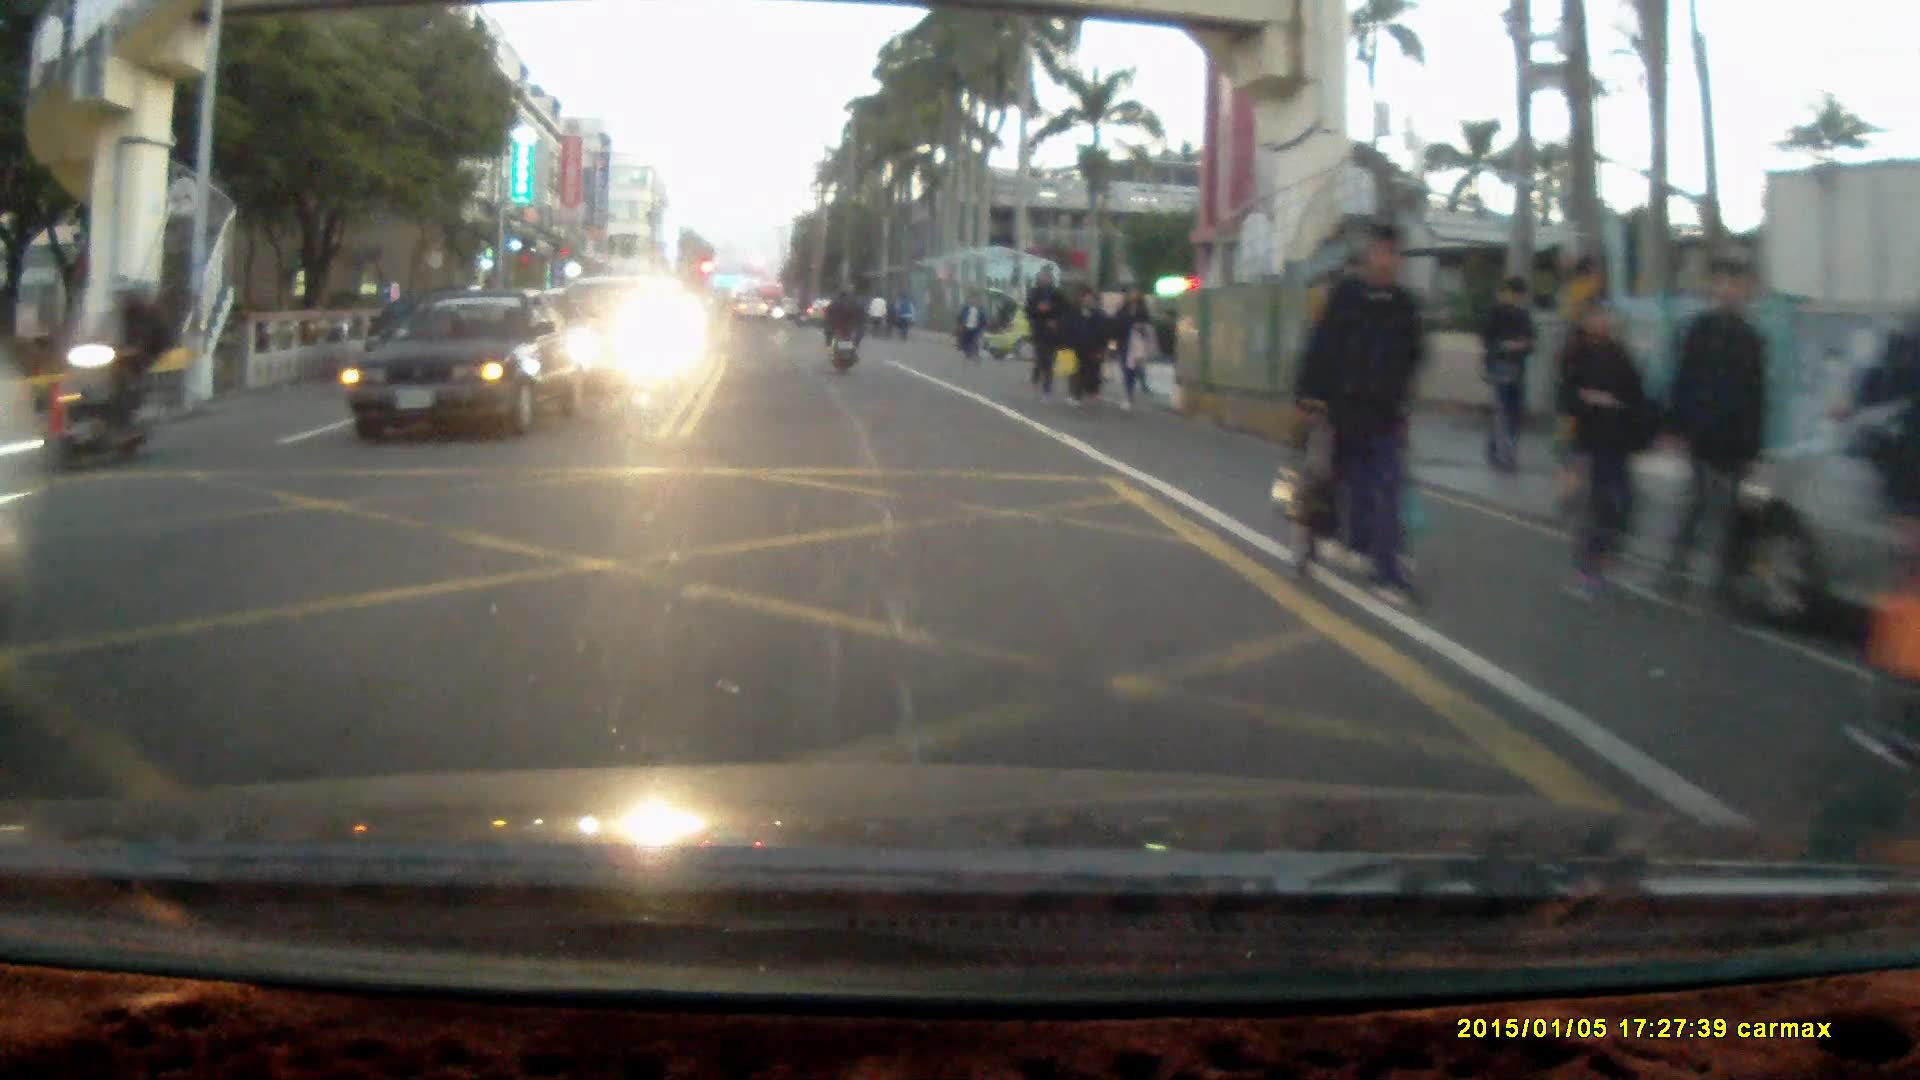pedestrian: (1314, 220, 1428, 615), (1668, 256, 1766, 629), (1563, 297, 1667, 624), (1476, 275, 1537, 485), (1107, 280, 1157, 412), (1022, 264, 1068, 404), (1063, 288, 1110, 409), (957, 291, 982, 363)
rider: (50, 270, 169, 475), (821, 284, 863, 378)
vehicle: (1711, 393, 1920, 640), (338, 298, 597, 446)
